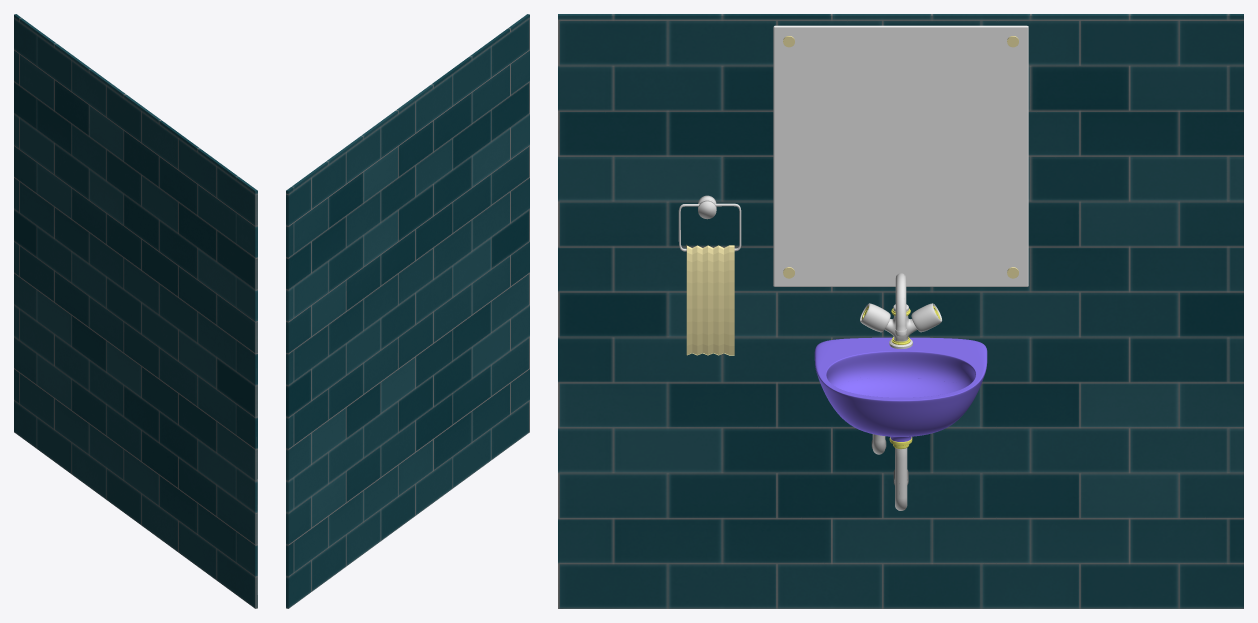
3 views of the same model, side by side, from view 1: azimuth 30°, elevation 25°; view 2: azimuth 150°, elevation 25°; view 3: azimuth 270°, elevation 25° (orthographic). The views are drawn at different scales.
Parts seen in each view (by area): view 1: main wall, Towel ad Mirror; view 2: main wall, Towel ad Mirror; view 3: main wall, Towel ad Mirror, Main Base _Material.010_0, Pipes.
Part boxes in pixels (x1,y1,x2,y2): main wall, Towel ad Mirror: (14,14,257,608); main wall, Towel ad Mirror: (286,14,529,608); main wall, Towel ad Mirror: (558,14,1243,608); Main Base _Material.010_0: (814,337,987,441); Pipes: (860,273,942,510).
Size of the model in its own units: 0.4409 by 1.87 by 1.96.
Materials: 3 (3 with a texture image).
